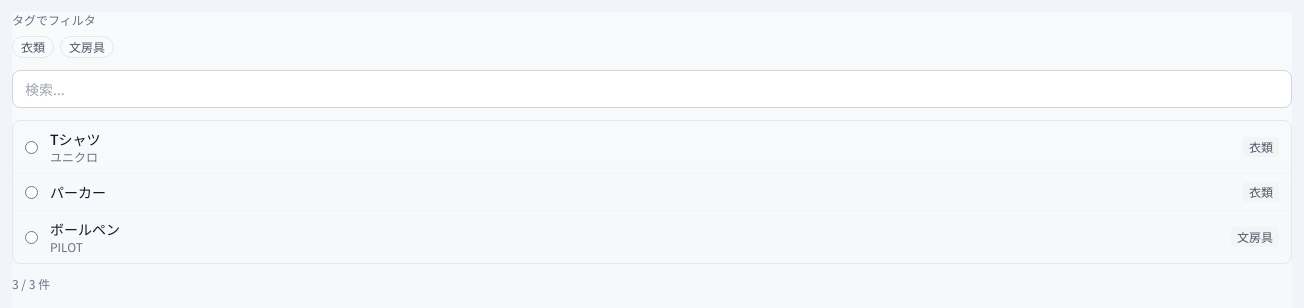
Test: ItemTypeSelector › should filter by search query
In the field with placeholder "検索...": [652, 89] box [12,70,1292,108], type "Tシャツ"
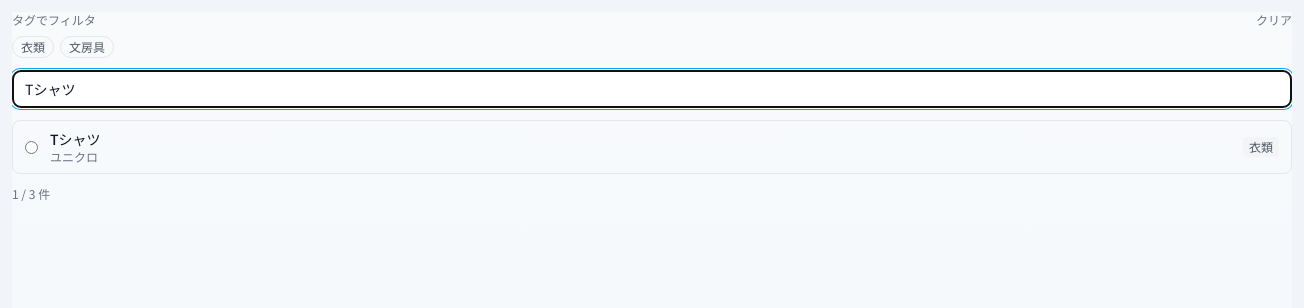
Result: the text "パーカー" is gone
Result: the text "ボールペン" is gone
Result: the text "1 / 3 件" is shown at [12,185,50,202]
